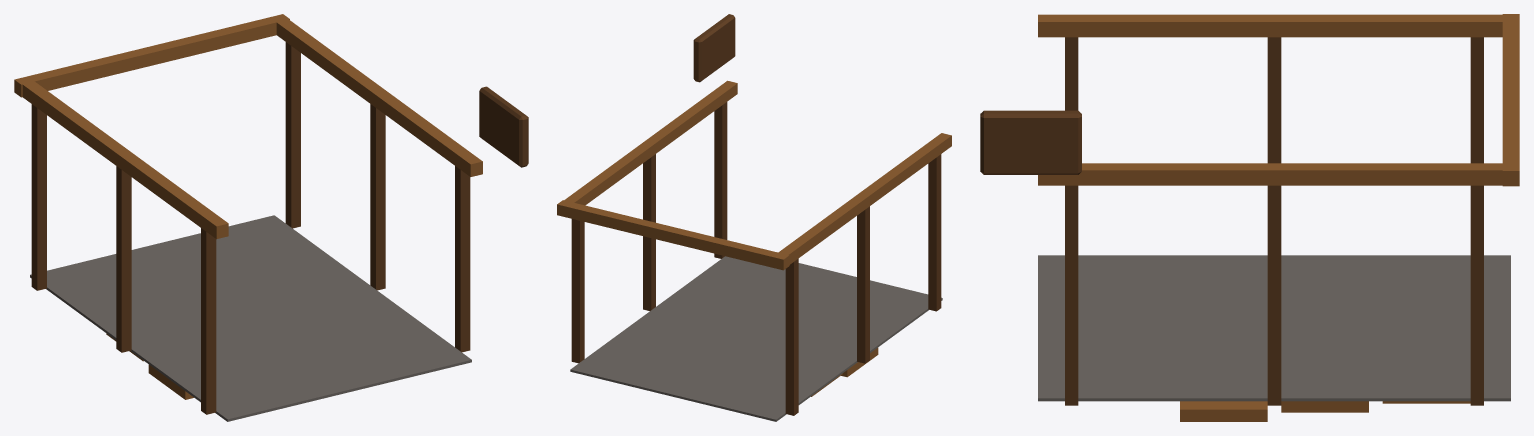
File: PR_Furniture_MerdivenUst.fbx
3 renders of one model, left to right at view 1: azimuth 30°, elevation 25°; view 2: azimuth 150°, elevation 25°; view 3: azimuth 270°, elevation 25°, orthographic. The views are drawn at different scales.
Visible parts, largest first — view 1: PR_Furniture_MerdivenUst; view 2: PR_Furniture_MerdivenUst; view 3: PR_Furniture_MerdivenUst.
Part boxes in pixels (<box>): PR_Furniture_MerdivenUst: <box>14,14,528,421</box>; PR_Furniture_MerdivenUst: <box>557,14,951,421</box>; PR_Furniture_MerdivenUst: <box>980,14,1519,421</box>.
Size of the model in its own units: 1.19 by 1.1 by 1.59.
